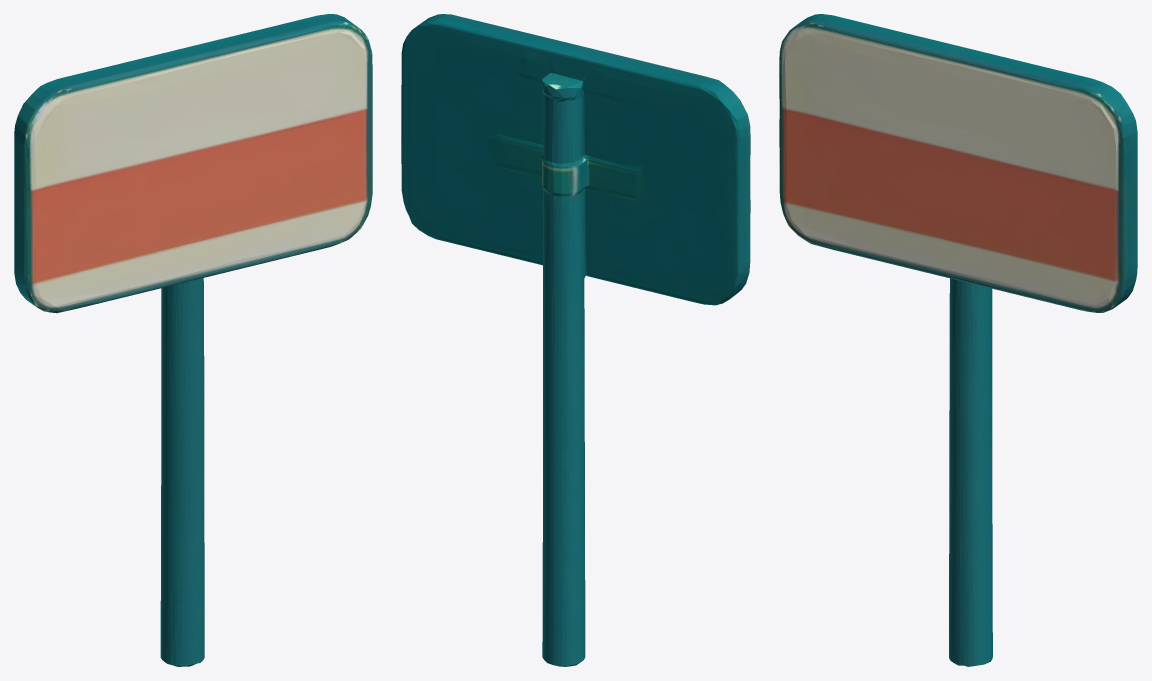
The model's file is kiosk-sign.glb.
3 views of the same model, side by side, from view 1: azimuth 30°, elevation 25°; view 2: azimuth 150°, elevation 25°; view 3: azimuth 330°, elevation 25° (orthographic). The views are drawn at different scales.
Parts seen in each view (by area): view 1: figure; view 2: figure; view 3: figure.
Boxes of the visible parts, box(x1,y1,x2,y2) form: figure: box(14, 14, 372, 666); figure: box(401, 14, 750, 666); figure: box(779, 14, 1137, 666).
Size of the model in its own units: 0.5919 by 1 by 0.0905.
Materials: 1 (1 with a texture image).
